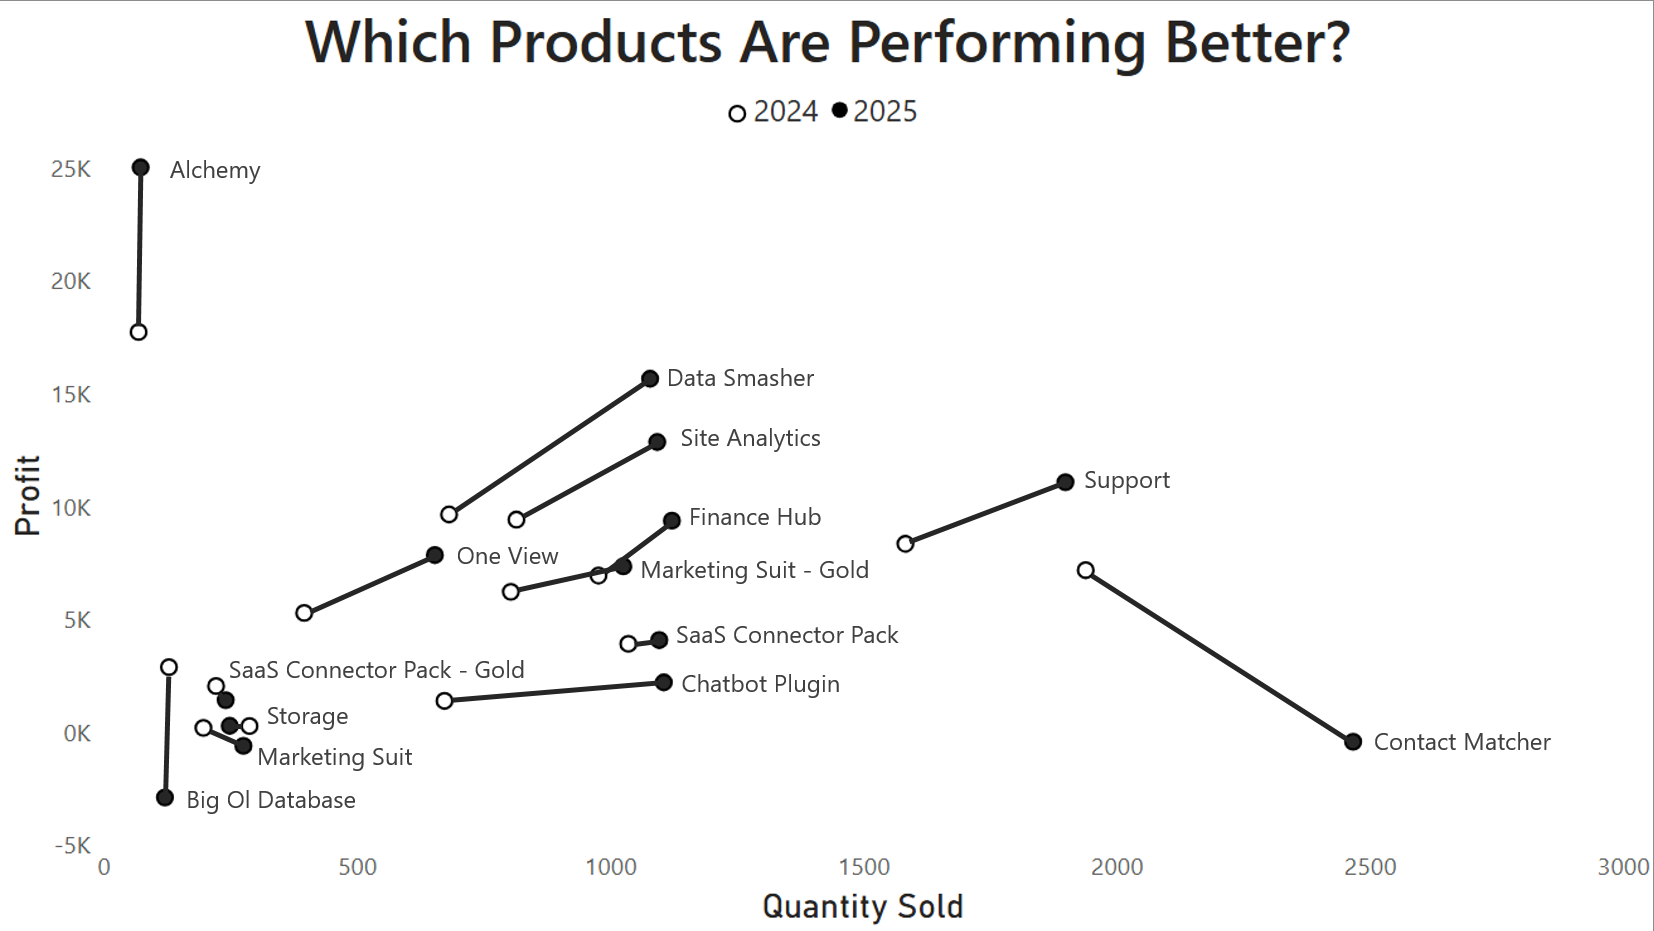

Layout of this report page (visuals, bound fields, positions):
{"tool":"powerbi","page":{"name":"2024 - 2025 Products","canvas":[1280,720],"ordinal":6},"visuals":[{"type":"scatterChart","title":"Which Products Are Performing Better?","fields":{"Category":["AWS-SaaS-Sales.Product"],"Y":["Sum(AWS-SaaS-Sales.Profit)"],"X":["Sum(AWS-SaaS-Sales.Quantity)"],"Series":["AWS-SaaS-Sales.Order Date.Variation.Date Hierarchy.Year"]},"box":[0,0,1280,719.8],"z":0}]}

Visuals, with their boxes in screenshot pixels (x1, y1, x2, y2), scaled from the page's 1280x720 canvas onto the 1654x931 screenshot:
"Which Products Are Performing Better?" scatterChart: bbox(0, 0, 1653, 930)
